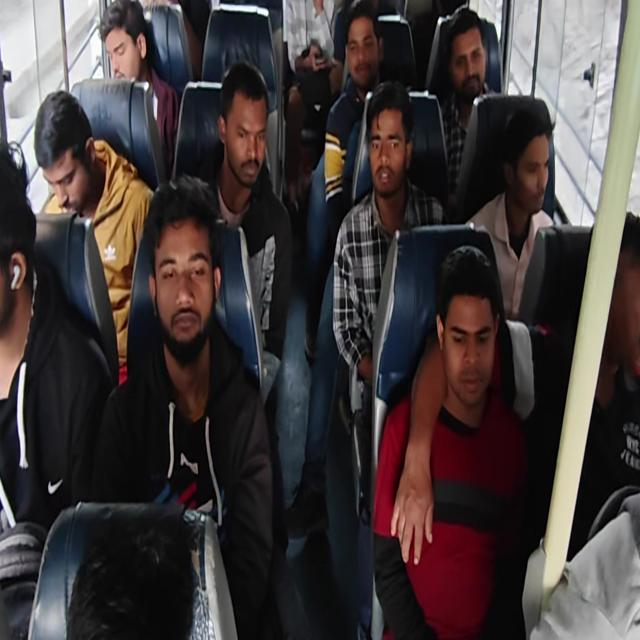person: (150, 205, 219, 358), (34, 92, 96, 215), (217, 70, 275, 191), (0, 158, 34, 358), (433, 276, 484, 408), (96, 0, 162, 98), (358, 113, 414, 212), (507, 110, 556, 217), (447, 18, 500, 114), (346, 20, 386, 95)
